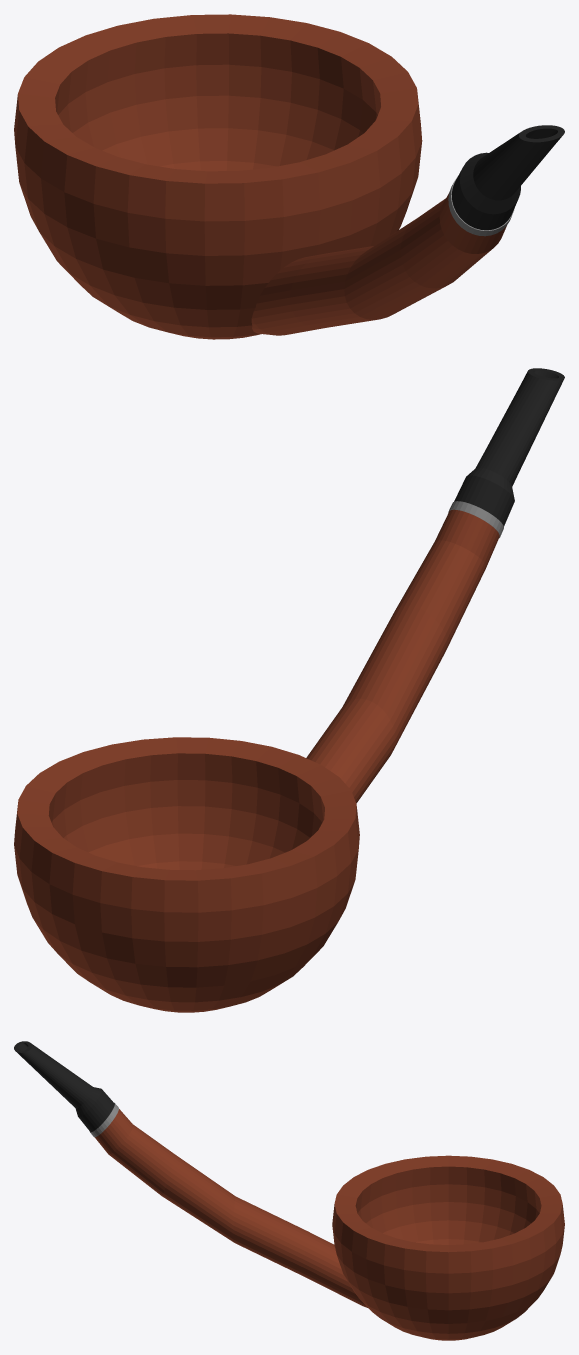
Rendered from pipe.fbx.
The picture shows the model from 3 angles, top to bottom: view 1: azimuth 30°, elevation 25°; view 2: azimuth 150°, elevation 25°; view 3: azimuth 270°, elevation 25°; orthographic projection. The views are drawn at different scales.
Parts seen in each view (by area): view 1: Sphere; view 2: Sphere; view 3: Sphere.
Boxes of the visible parts, x1,y1,x2,y2 form: Sphere: (14, 14, 564, 339); Sphere: (14, 368, 564, 1012); Sphere: (14, 1041, 564, 1340).
Bounding box in the file's own units: 200 × 256 × 473.
